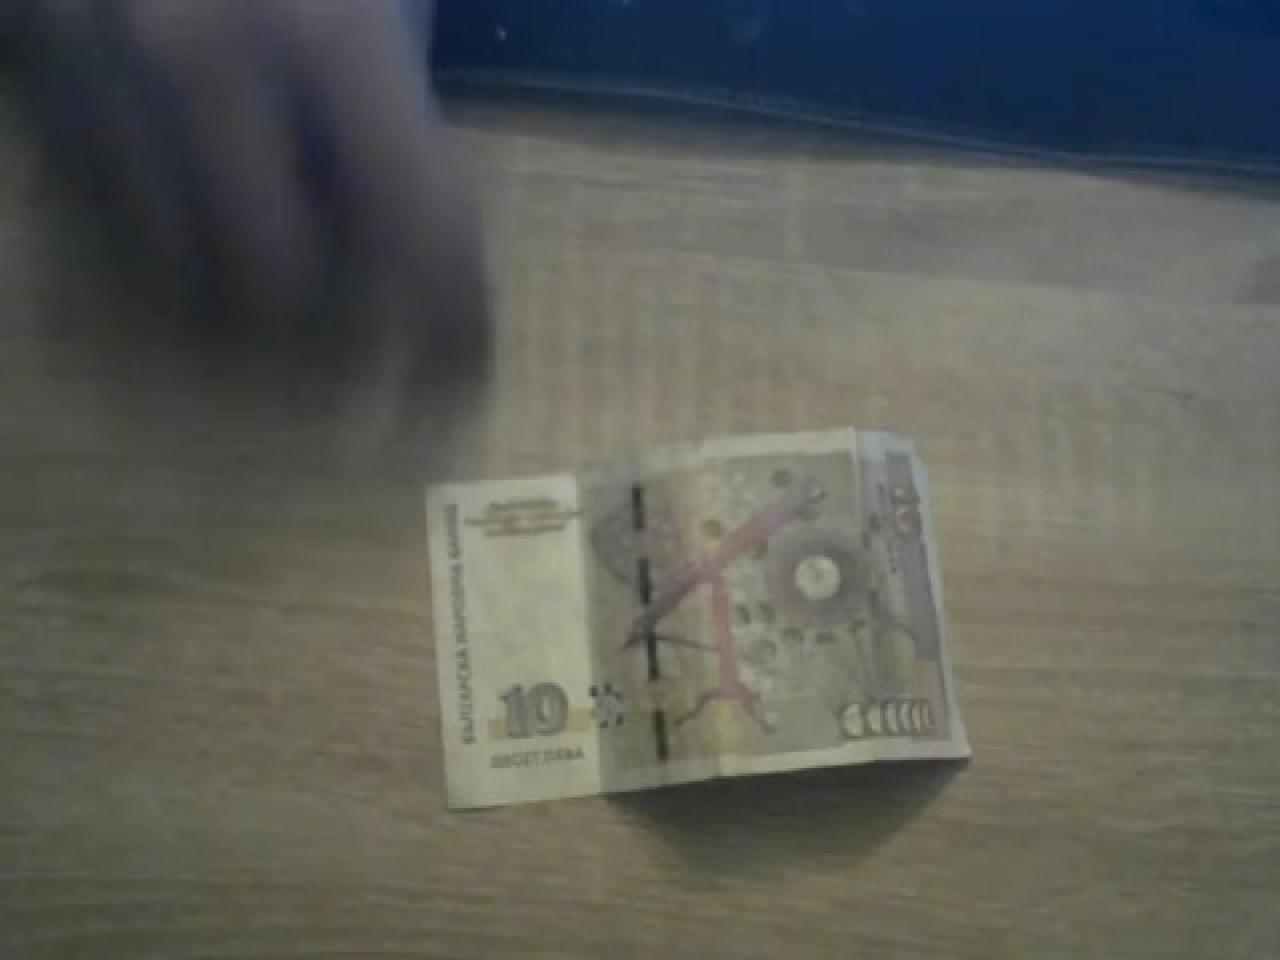10leva: (424, 430, 974, 816)
